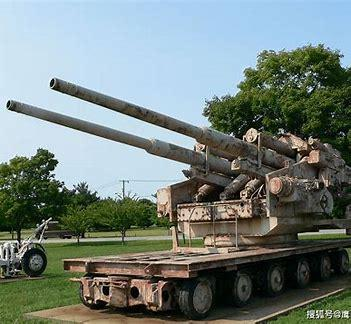MIL_SPG: (8, 101, 351, 317)
